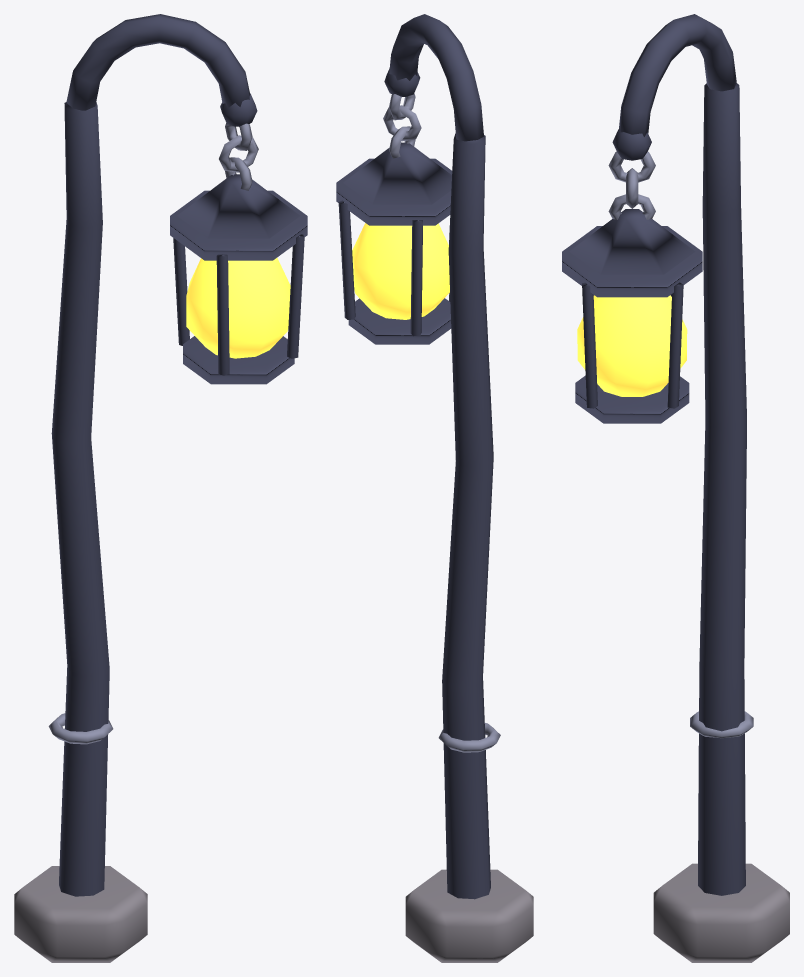
The model's file is ember_lantern.glb.
3 renders of one model, left to right at view 1: azimuth 30°, elevation 25°; view 2: azimuth 150°, elevation 25°; view 3: azimuth 270°, elevation 25°, orthographic. The views are drawn at different scales.
Visible parts, largest first — view 1: Lantern; view 2: Lantern; view 3: Lantern.
Boxes of the visible parts, x1=… form: Lantern: x1=14, y1=14, x2=307, y2=962; Lantern: x1=336, y1=14, x2=533, y2=962; Lantern: x1=562, y1=14, x2=789, y2=962.
Bounding box in the file's own units: 0.5918 × 2.38 × 0.519.
